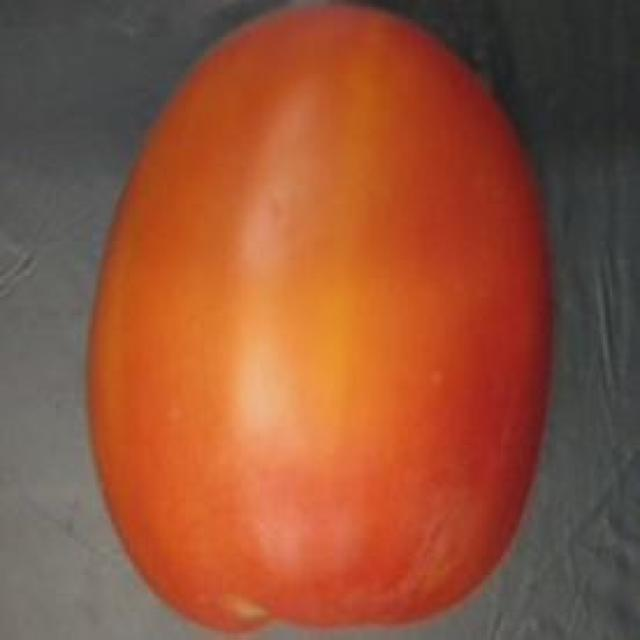overripe tomato: (77, 0, 568, 640)
